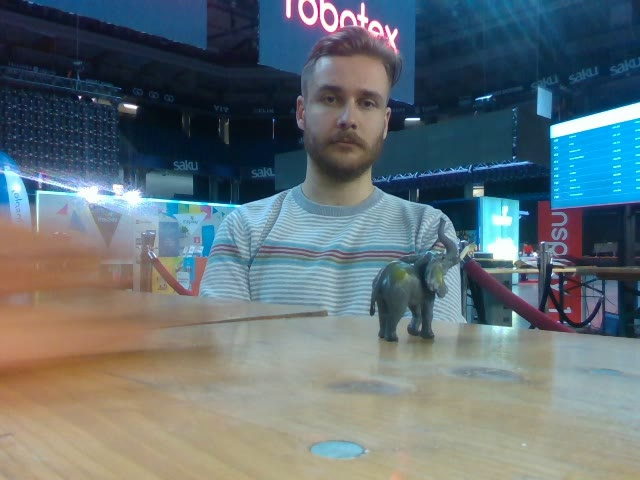toy: (369, 218, 469, 342)
